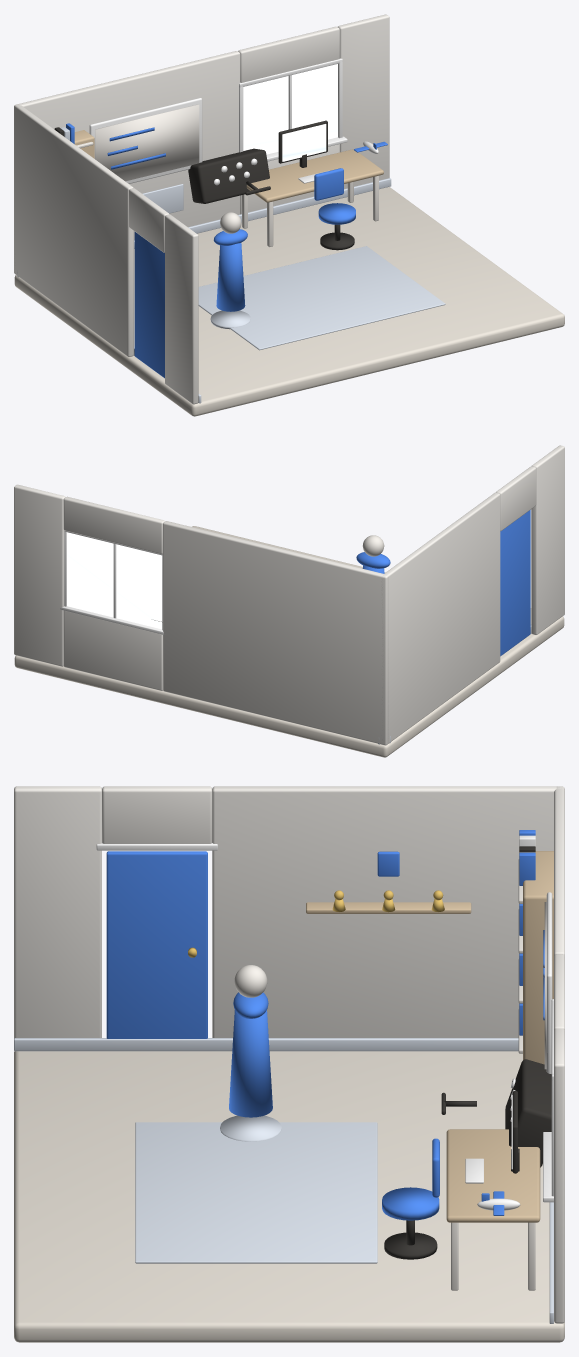
File: room-pilot.glb
3 renders of one model, top to bottom at view 1: azimuth 30°, elevation 25°; view 2: azimuth 150°, elevation 25°; view 3: azimuth 270°, elevation 25°, orthographic. The views are drawn at different scales.
Visible parts, largest first — view 1: floor, wall_left_b, rug, wall_back_l, wall_back_r, wall_left_a, window_glass, wb_board, door_leaf, wall_back_hi, desk_top, panel (+11 smaller); view 2: wall_back_l, wall_left_b, wall_back_r, floor, window_glass, wall_back_lo, wall_left_a, door_leaf, wall_back_hi, wall_left_hi, wf_b, fs_shoulders; view 3: floor, wall_left_b, rug, wall_left_a, door_leaf, desk_top, base_left, wall_left_hi, bs_body, fs_body, wall_back_r, panel (+10 smaller).
Part boxes in pixels (x1,y1,x2,y2): floor: (14,187,564,416); wall_left_b: (14,104,133,356); rug: (198,246,445,350); wall_back_l: (14,51,240,273); wall_back_r: (338,14,389,188); wall_left_a: (165,214,198,404); window_glass: (243,64,337,154); wb_board: (95,104,199,181); door_leaf: (134,232,164,378); wall_back_hi: (238,26,339,82); desk_top: (246,149,383,202); panel: (188,148,269,203); wall_back_l: (163,521,388,745); wall_left_b: (381,492,500,744); wall_back_r: (14,484,65,666); floor: (14,526,564,757); window_glass: (67,532,162,629); wall_back_lo: (63,610,162,690); wall_left_a: (531,445,564,634); door_leaf: (500,510,530,656); wall_back_hi: (63,496,165,554); wall_left_hi: (496,466,536,531); wf_b: (60,606,163,634); fs_shoulders: (356,552,390,568); floor: (14,1051,564,1342); wall_left_b: (212,786,563,1037); rug: (135,1122,377,1263); wall_left_a: (14,786,101,1038); door_leaf: (106,851,207,1038); desk_top: (446,1129,540,1222); base_left: (14,1038,518,1051); wall_left_hi: (102,786,212,843); bs_body: (523,851,553,1064); fs_body: (229,997,272,1117); wall_back_r: (554,1028,564,1323); panel: (505,1059,551,1167).
Size of the model in its own units: 6 by 2.8 by 5.
